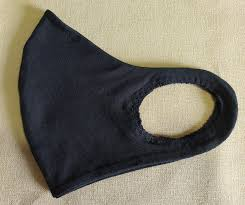mask: (8, 6, 242, 201)
